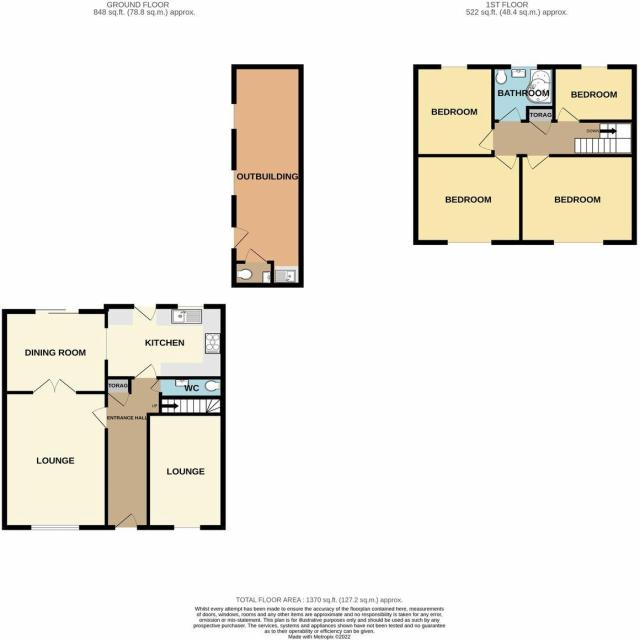DOOR: (132, 303, 157, 322), (526, 153, 550, 171), (114, 512, 138, 530), (493, 154, 518, 171), (477, 128, 495, 151), (133, 363, 157, 380), (498, 107, 522, 123), (557, 107, 580, 123)
ROOM: (519, 153, 638, 246), (413, 154, 523, 246), (104, 303, 226, 379), (413, 64, 495, 157), (552, 64, 637, 123)
WINDOW: (552, 239, 604, 246), (447, 239, 493, 246), (176, 303, 205, 310), (440, 64, 468, 70), (580, 64, 608, 70), (510, 64, 538, 70)
